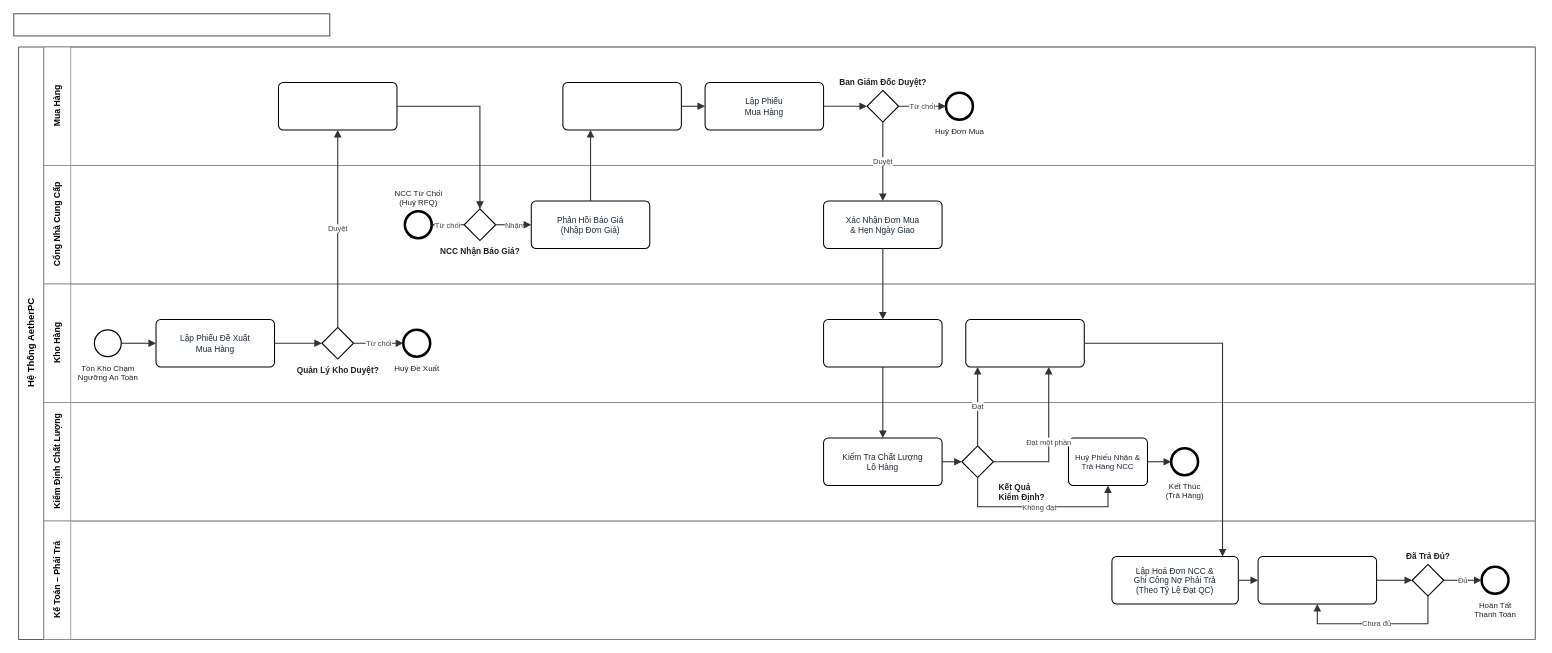
This 1552x653 diagram has some shape labels left out. Each missing label, with the centre of its shape:
"Lập & Gửi Đơn Báo Giá Tới NCC" goes at (337,106).
"Nhận Hàng Theo Phiếu Nhập Kho (Tự Động Tạo)" goes at (882,343).
"Nhập Kho SL Đạt, Quét Serial; Đóng Đề Xuất, Phân Bổ Đơn Chờ Hàng" goes at (1024,343).
"Quy Trình Mua Hàng – Thanh Toán" goes at (171,24).
"So Sánh Báo Giá & Chọn NCC" goes at (622,106).
"Thanh Toán NCC & Ghi Sổ Cái" goes at (1317,580).
